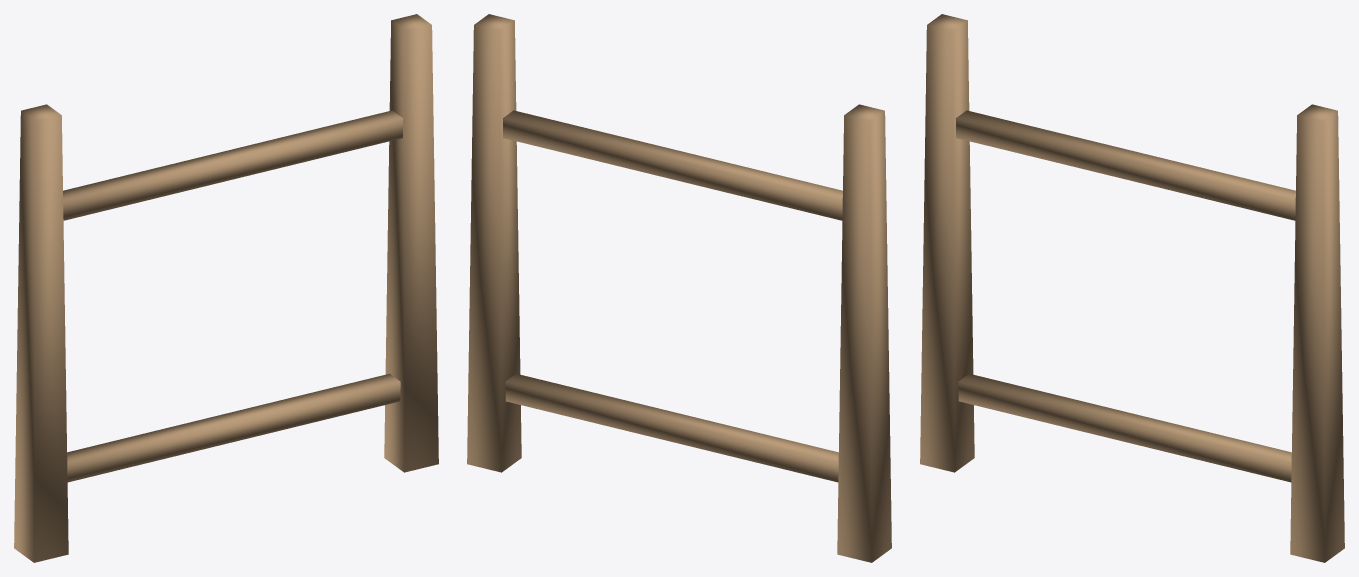
File: kenney_survival-kit__fence.fbx
The picture shows the model from 3 angles, left to right: view 1: azimuth 30°, elevation 25°; view 2: azimuth 150°, elevation 25°; view 3: azimuth 330°, elevation 25°; orthographic projection.
Visible parts, largest first — view 1: kenney_survival-kit__fence__meadow_wood; view 2: kenney_survival-kit__fence__meadow_wood; view 3: kenney_survival-kit__fence__meadow_wood.
Boxes of the visible parts, x1,y1,x2,y2 form: kenney_survival-kit__fence__meadow_wood: [14, 14, 438, 562]; kenney_survival-kit__fence__meadow_wood: [467, 14, 891, 562]; kenney_survival-kit__fence__meadow_wood: [920, 14, 1344, 562].
Size of the model in its own units: 1.79 by 1.85 by 0.1528.
